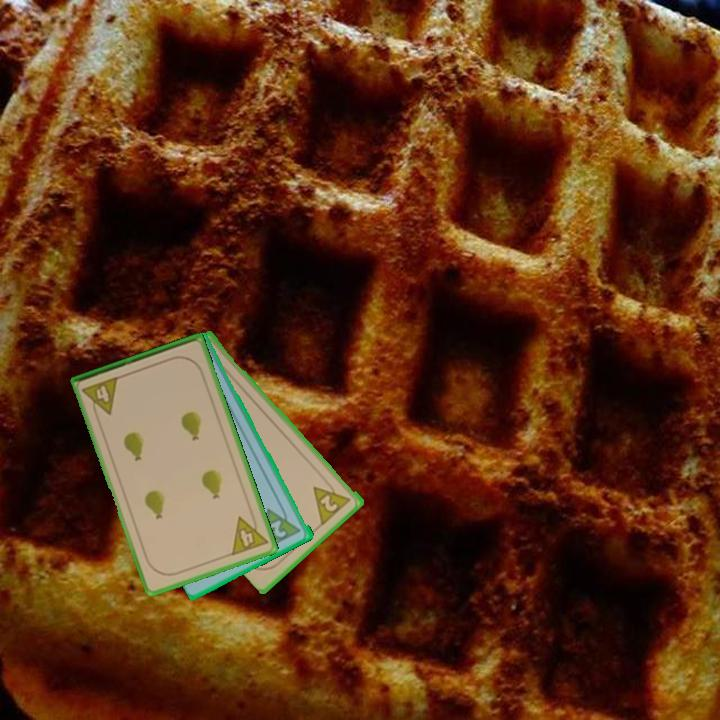2p: (309, 475, 354, 527), (262, 500, 304, 551)
4p: (228, 509, 271, 559), (79, 373, 122, 421)
